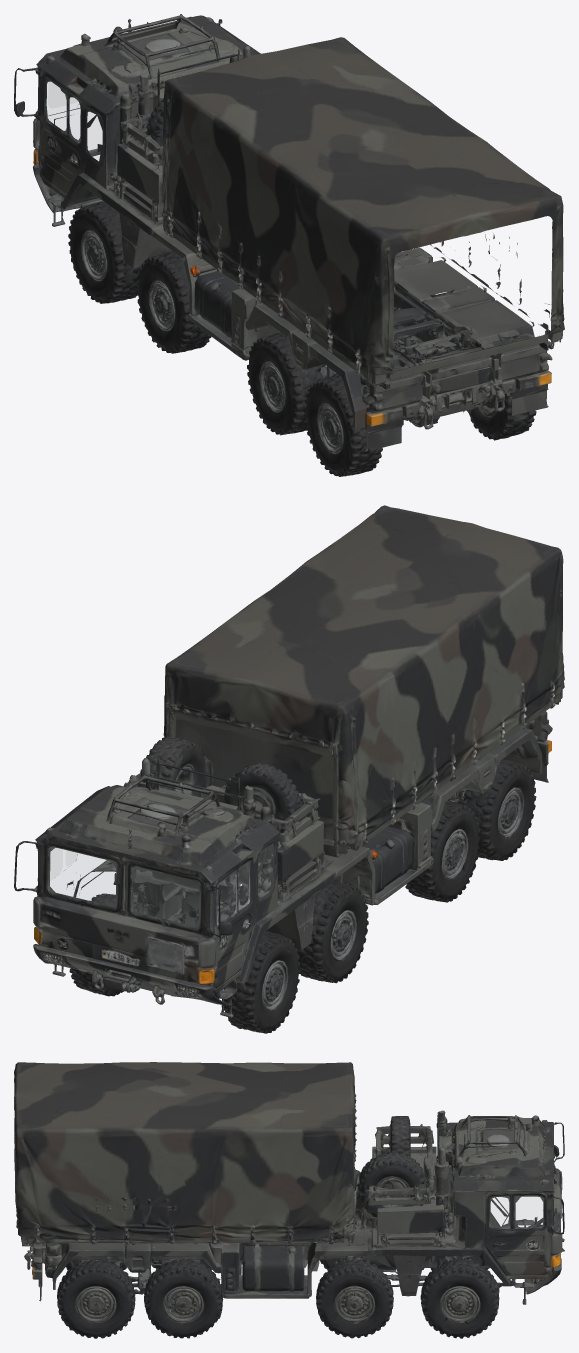
File: surface-military-truck.glb
The picture shows the model from 3 angles, top to bottom: view 1: azimuth 30°, elevation 25°; view 2: azimuth 150°, elevation 25°; view 3: azimuth 270°, elevation 25°; orthographic projection. The views are drawn at different scales.
Visible parts, largest first — view 1: body, wheel-0, wheel-4, wheel-2, wheel-6, wheel-7, glass; view 2: body, glass, wheel-2, wheel-0, wheel-6, wheel-4, wheel-1; view 3: body, wheel-5, wheel-1, wheel-7, wheel-3, glass.
Boxes of the visible parts, x1,y1,x2,y2 form: body: (14,14,564,451); wheel-0: (68,201,141,303); wheel-4: (240,332,323,435); wheel-2: (137,251,211,353); wheel-6: (304,374,382,476); wheel-7: (466,341,536,440); glass: (47,82,101,160); body: (14,505,564,1017); glass: (49,848,272,927); wheel-2: (297,881,372,983); wheel-0: (223,931,300,1033); wheel-6: (462,759,536,860); wheel-4: (405,800,480,902); wheel-1: (69,893,139,996); body: (14,1062,564,1304); wheel-5: (144,1259,226,1338); wheel-1: (420,1259,502,1338); wheel-7: (57,1259,135,1338); wheel-3: (311,1259,393,1338); glass: (491,1197,554,1226).
Size of the model in its own units: 2.58 by 3.24 by 7.54.
2 materials, 1 textured.
